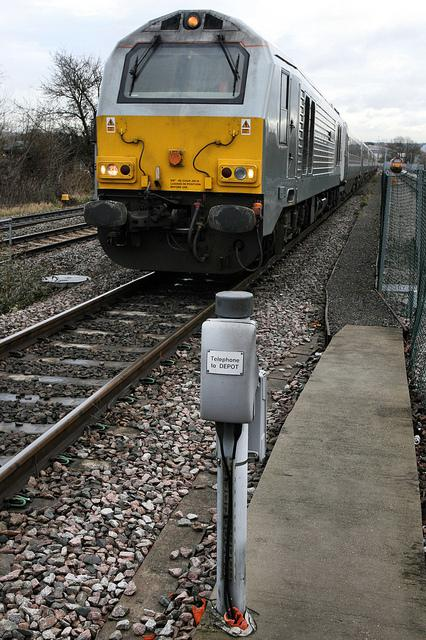Train: (84, 9, 384, 279)
